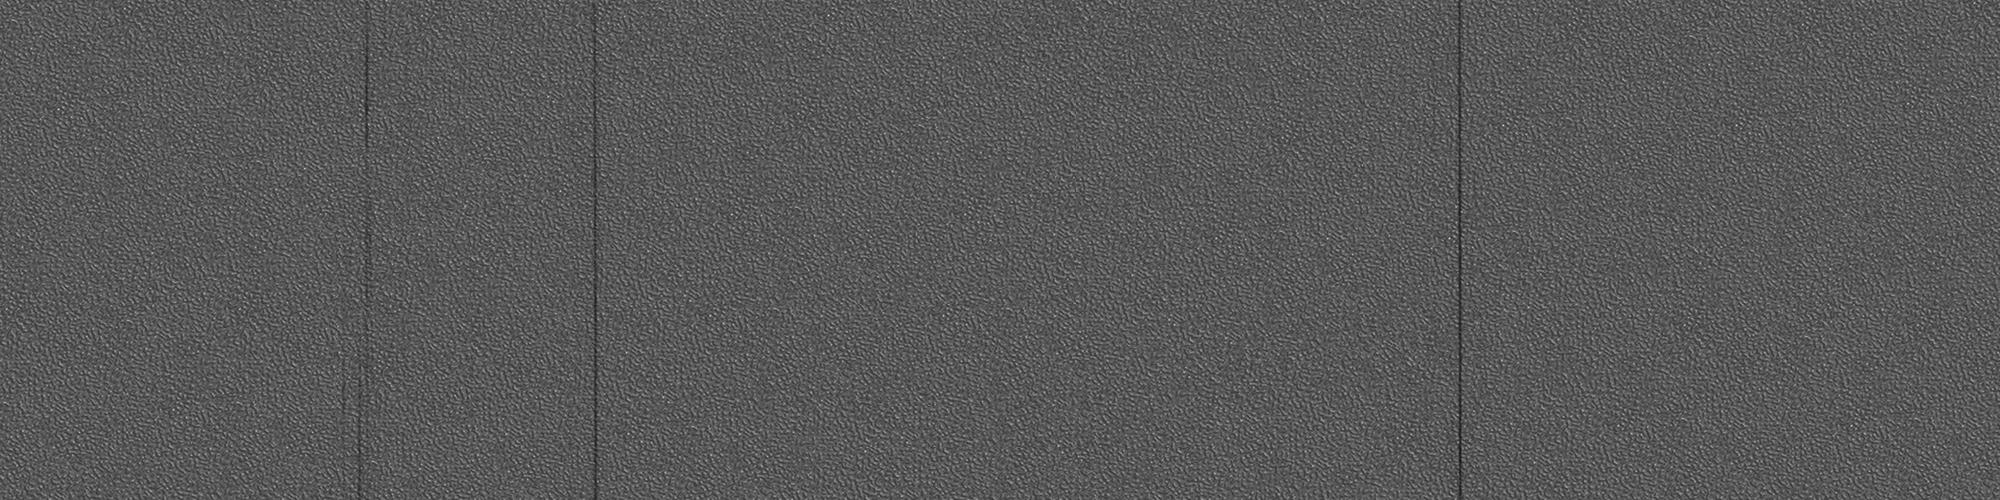DieDrag: (339, 5, 406, 494), (577, 6, 610, 500), (1445, 3, 1471, 496)
